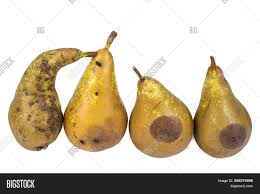damaged_apple: (66, 44, 129, 153), (195, 53, 253, 161), (131, 60, 193, 161), (10, 50, 68, 151)
